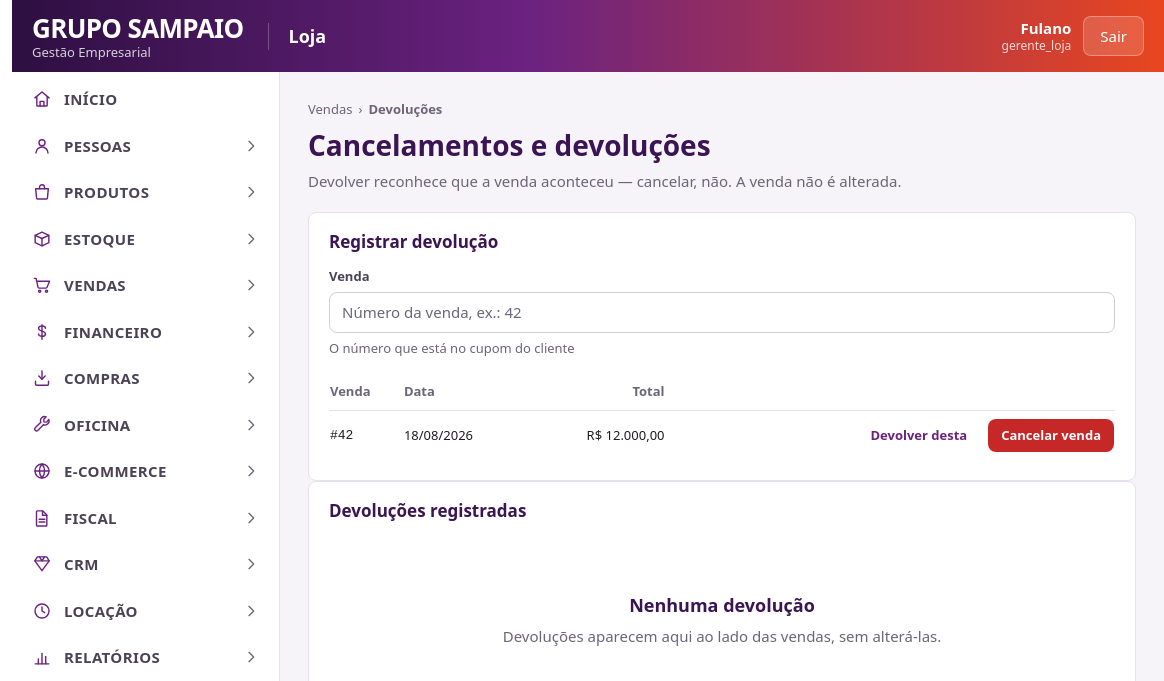
Test: a devolução não vira uma segunda casa do rastro › abrir a venda para devolver NÃO desenha o bloco dos itens cancelados
This screenshot has width=1164, height=681.
Expected: the text "#42" is shown, [329,410,403,460]
Click the button "Devolver desta".
click(919, 435)  # box [858,418,980,452]
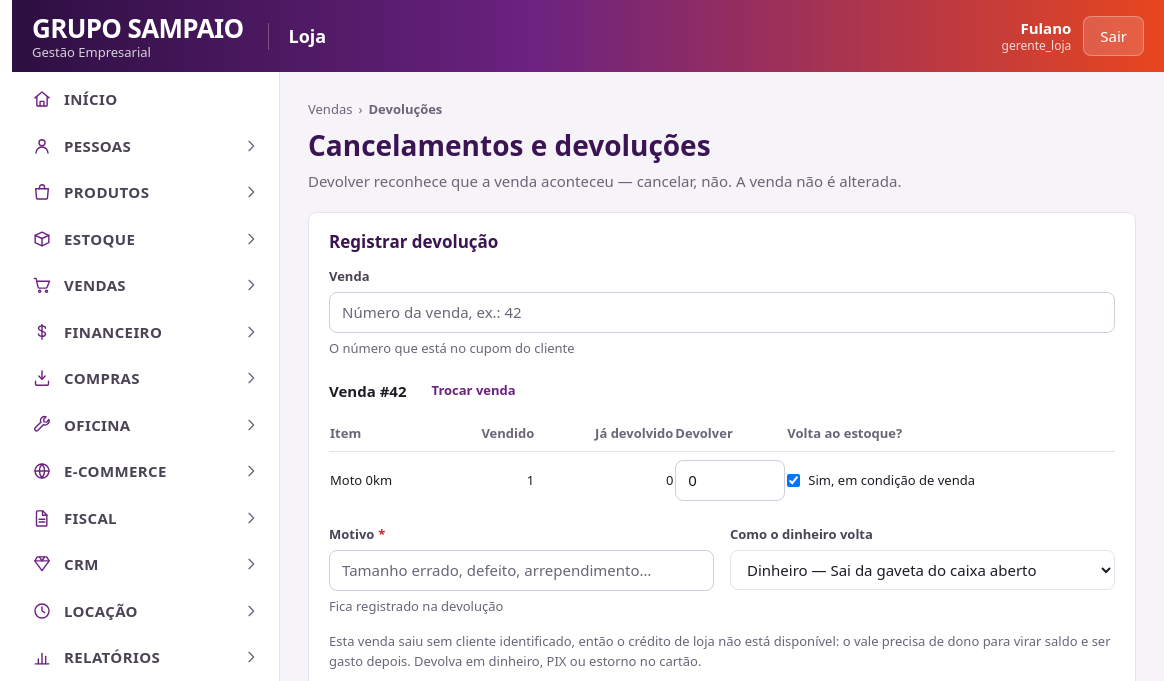
Now the text "Venda #42" is shown, box [329,380,406,402]
